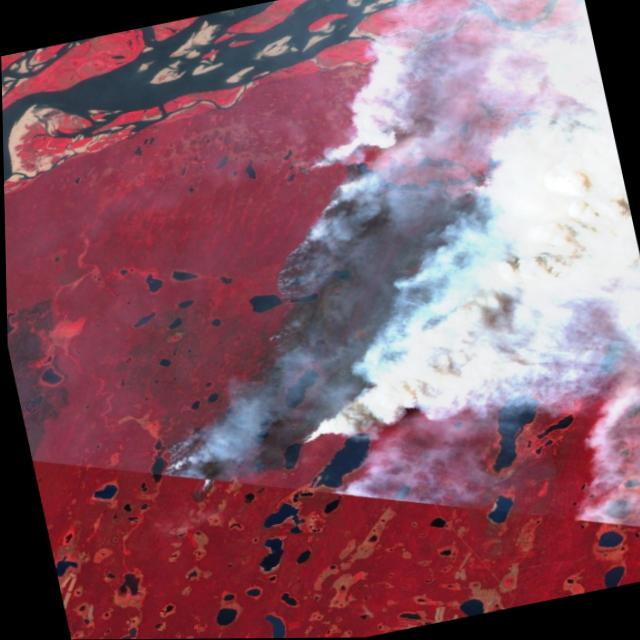fire: (233, 102, 603, 451), (140, 428, 229, 508)
